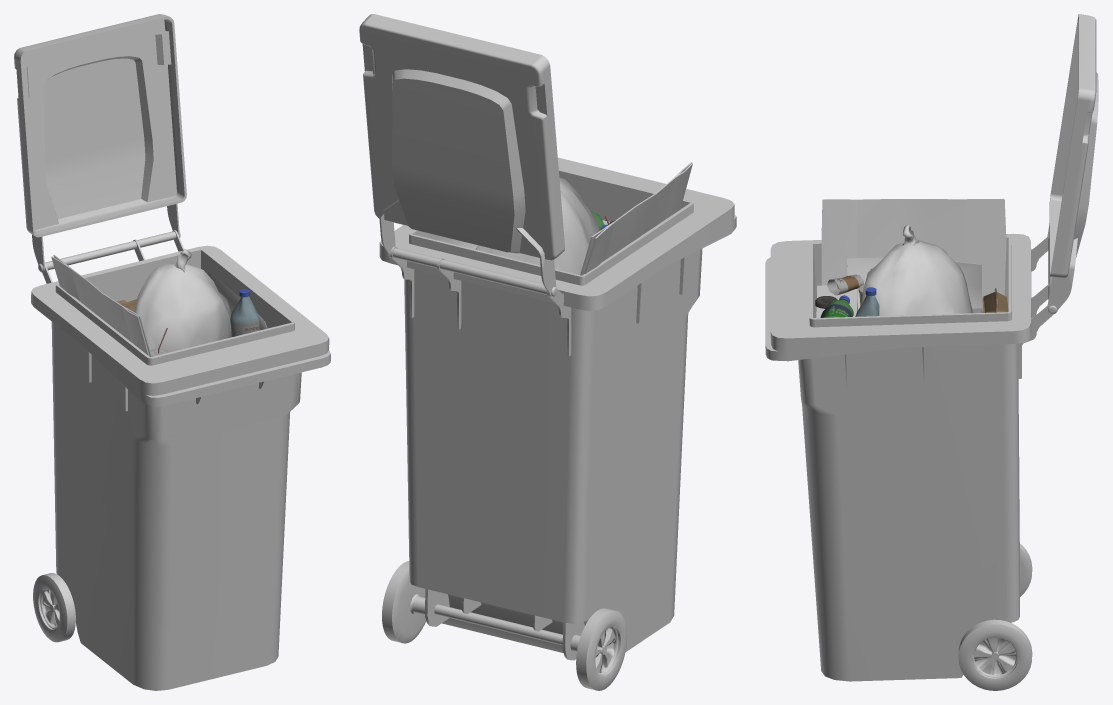
Rendered from SM_Trash_Bin_Medium_HalfOpen_02.FBX.
3 renders of one model, left to right at view 1: azimuth 30°, elevation 25°; view 2: azimuth 150°, elevation 25°; view 3: azimuth 270°, elevation 25°, orthographic. The views are drawn at different scales.
Visible parts, largest first — view 1: SM_Trash_Bin_Medium_HalfOpen_02_LOD0; view 2: SM_Trash_Bin_Medium_HalfOpen_02_LOD0; view 3: SM_Trash_Bin_Medium_HalfOpen_02_LOD0.
Part boxes in pixels (left/top/right/bottom): SM_Trash_Bin_Medium_HalfOpen_02_LOD0: left=14, top=14, right=330, bottom=690; SM_Trash_Bin_Medium_HalfOpen_02_LOD0: left=359, top=14, right=736, bottom=690; SM_Trash_Bin_Medium_HalfOpen_02_LOD0: left=765, top=14, right=1098, bottom=690.
Size of what is drawn, in the model's own units: 60.35 by 87.25 by 172.
